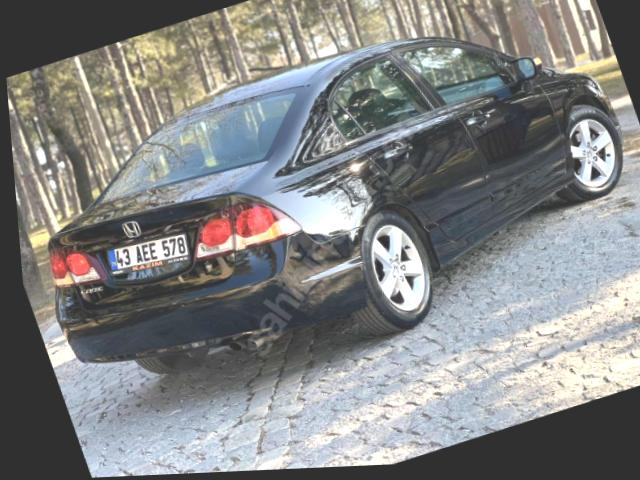plaka: (108, 233, 189, 273)
